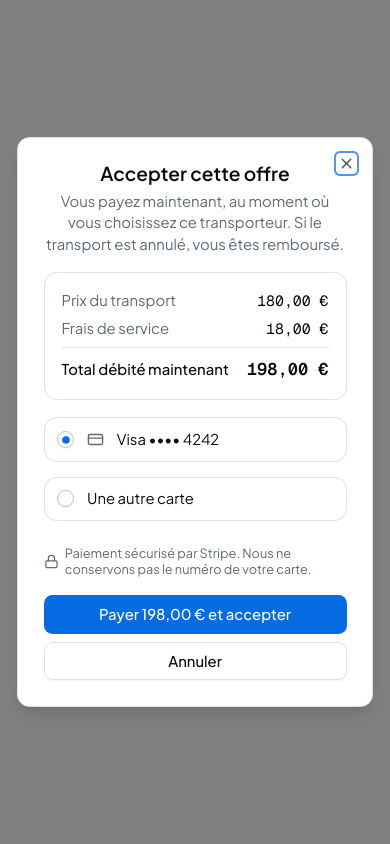
Scenario: AcceptPaymentDialog — a job that is paid here › does not guess when the connection dropped
Click the button "Payer 198,00 € et accepter": [195, 615] box [44,596,346,634]
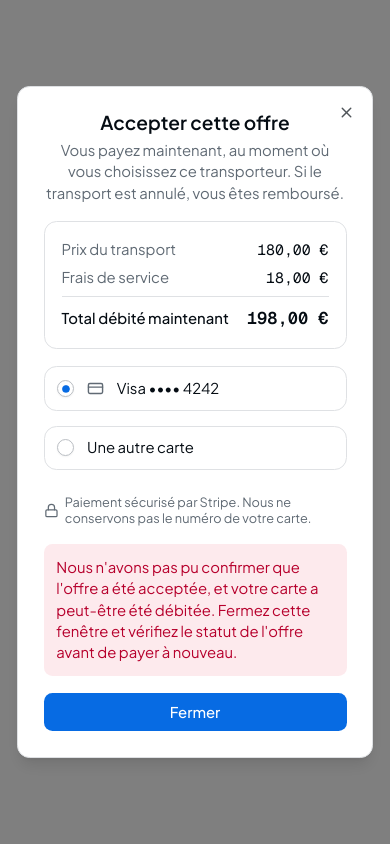
Now the text "Nous n'avons pas pu confirmer que l'offre a été acceptée, et votre carte a peut-être été débitée. Fermez cette fenêtre e" is shown, box [56,558,319,661]
Now the button "Payer" is gone
Now the button "Fermer" is shown, box [44,693,346,732]
